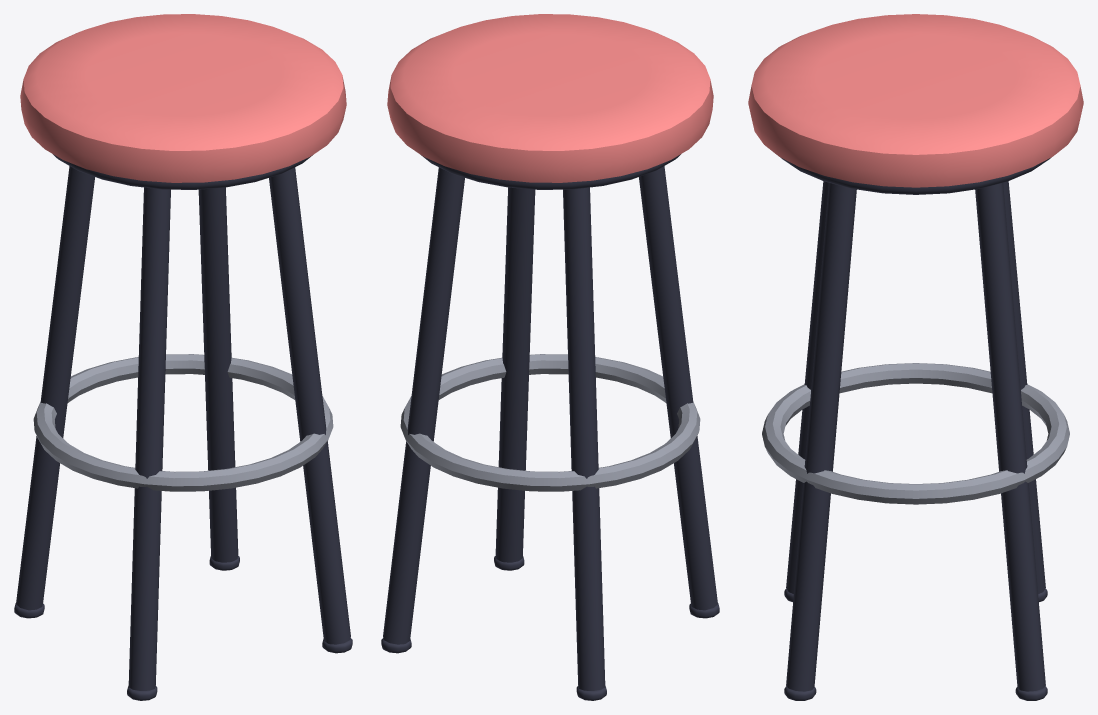
File: bar_stool.glb
3 renders of one model, left to right at view 1: azimuth 30°, elevation 25°; view 2: azimuth 150°, elevation 25°; view 3: azimuth 270°, elevation 25°, orthographic. The views are drawn at different scales.
Parts seen in each view (by area): view 1: charcoal, accent_fabric, steel; view 2: charcoal, accent_fabric, steel; view 3: accent_fabric, charcoal, steel.
Part boxes in pixels (x1,y1,x2,y2): charcoal: (14,154,352,700); accent_fabric: (20,14,346,182); steel: (33,354,333,491); charcoal: (381,154,719,700); accent_fabric: (387,14,713,182); steel: (400,354,700,491); accent_fabric: (748,14,1083,187); charcoal: (780,157,1051,700); steel: (762,363,1069,504).
Size of the model in its own units: 0.4 by 0.75 by 0.4.
